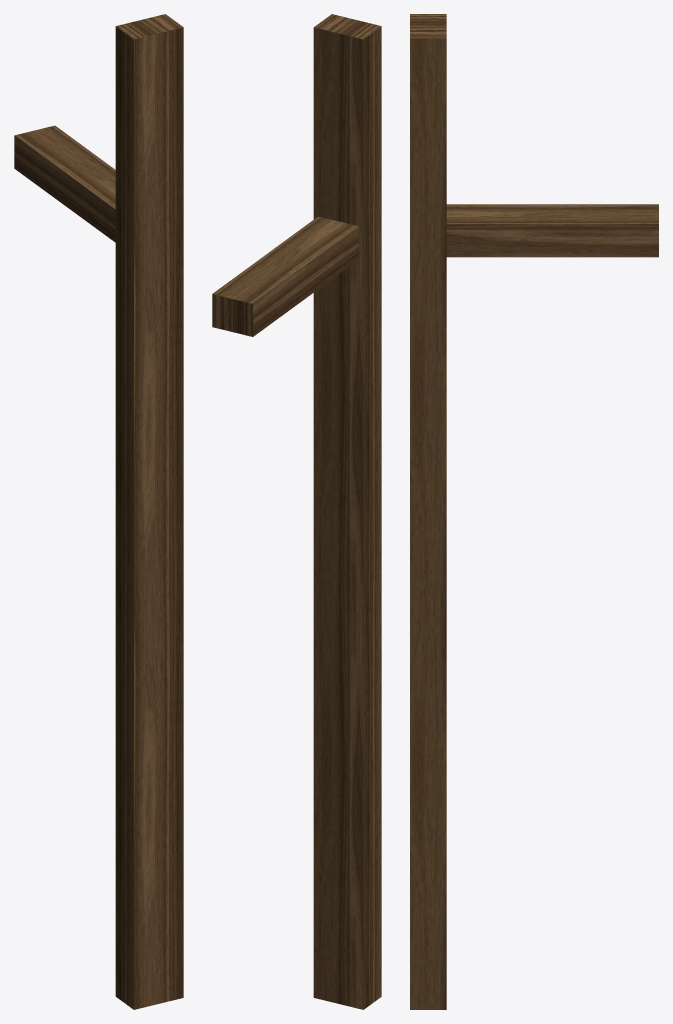
The model's file is Wooden 26.glb.
The picture shows the model from 3 angles, left to right: view 1: azimuth 30°, elevation 25°; view 2: azimuth 150°, elevation 25°; view 3: azimuth 270°, elevation 25°; orthographic projection.
Parts seen in each view (by area): view 1: Wooden_26; view 2: Wooden_26; view 3: Wooden_26.
Part boxes in pixels (x1,y1,x2,y2): Wooden_26: [14, 14, 183, 1009]; Wooden_26: [212, 14, 381, 1009]; Wooden_26: [410, 14, 658, 1009].
Bounding box in the file's own units: 0.0795 × 1.48 × 0.3432.
Materials: 1 (1 with a texture image).
